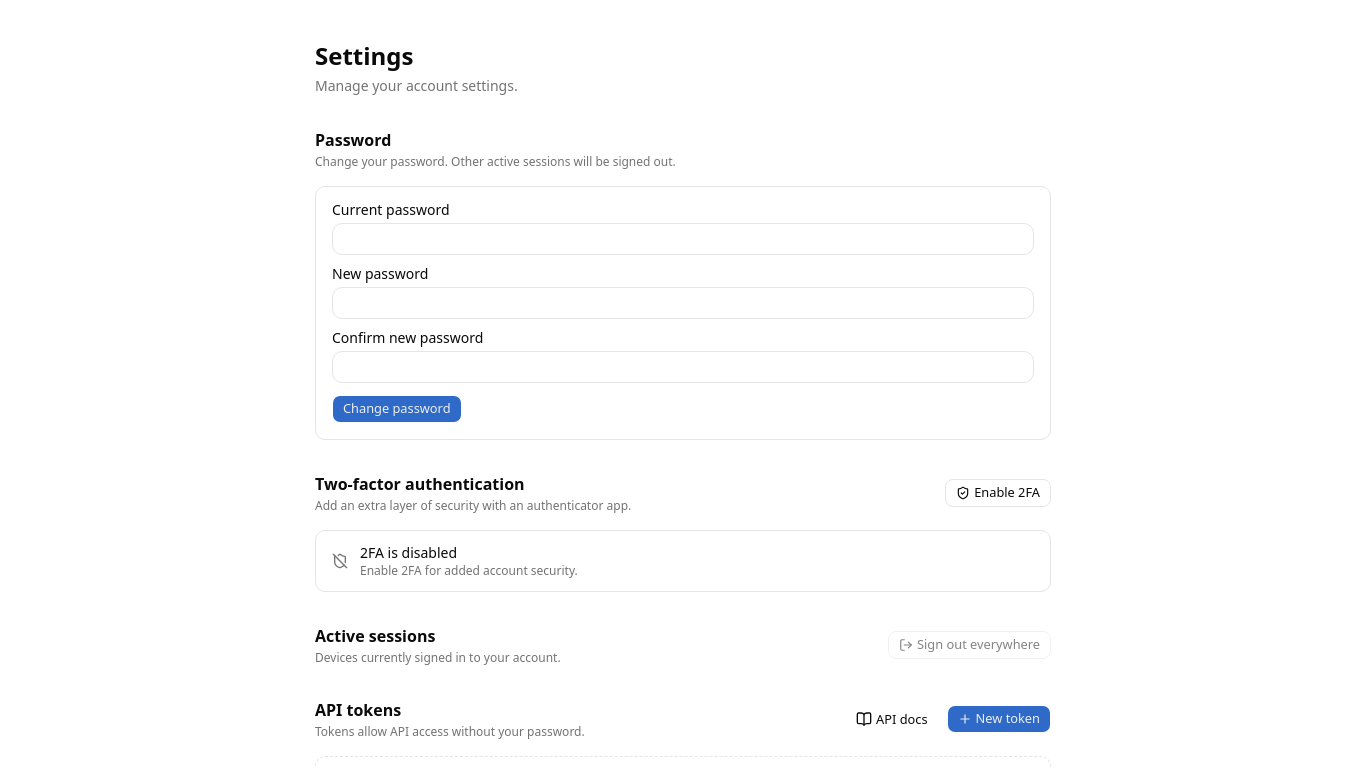
Scenario: shows a freshly created token once, for copying
Click the button "New token". click: coordinates (999, 719)
box: [947,705,1051,733]
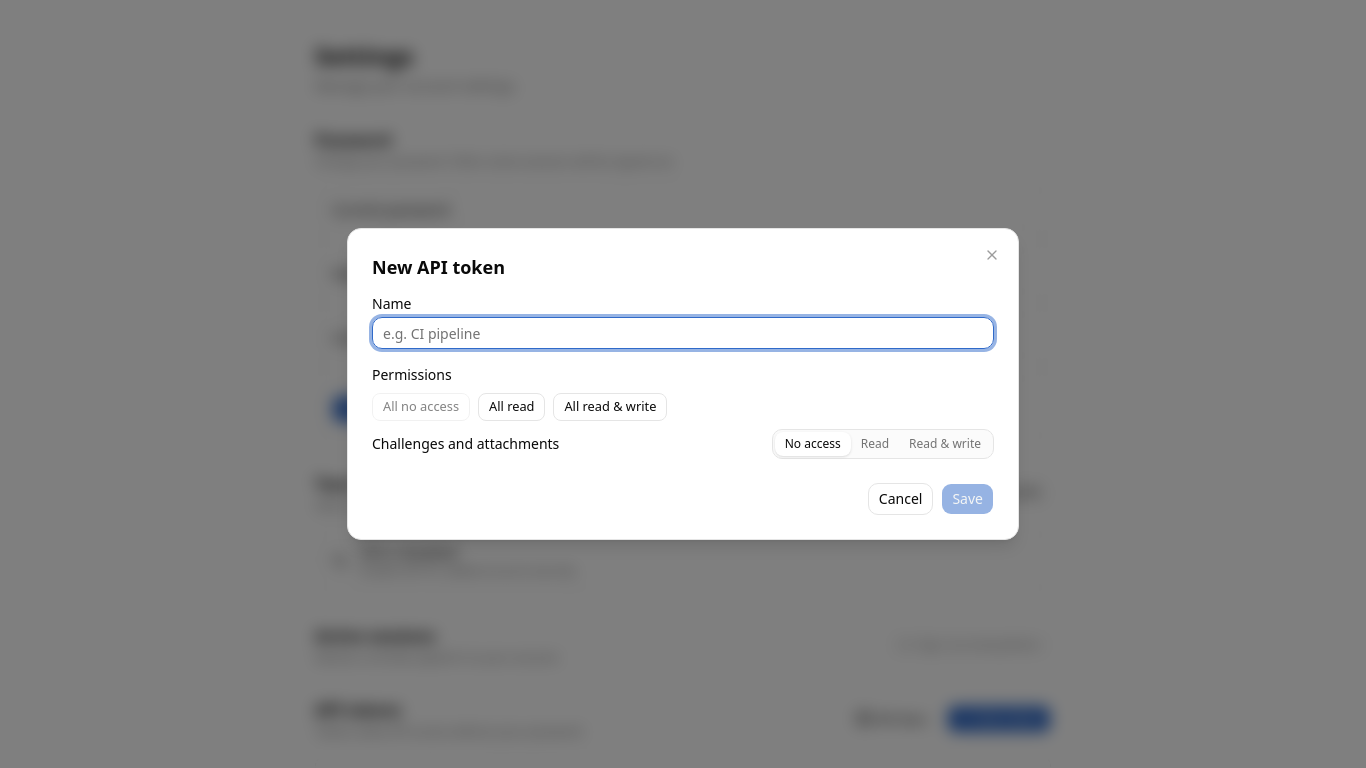
Type "CI" into the field labelled "Name". click: coordinates (683, 333)
box: [372,317,994,349]
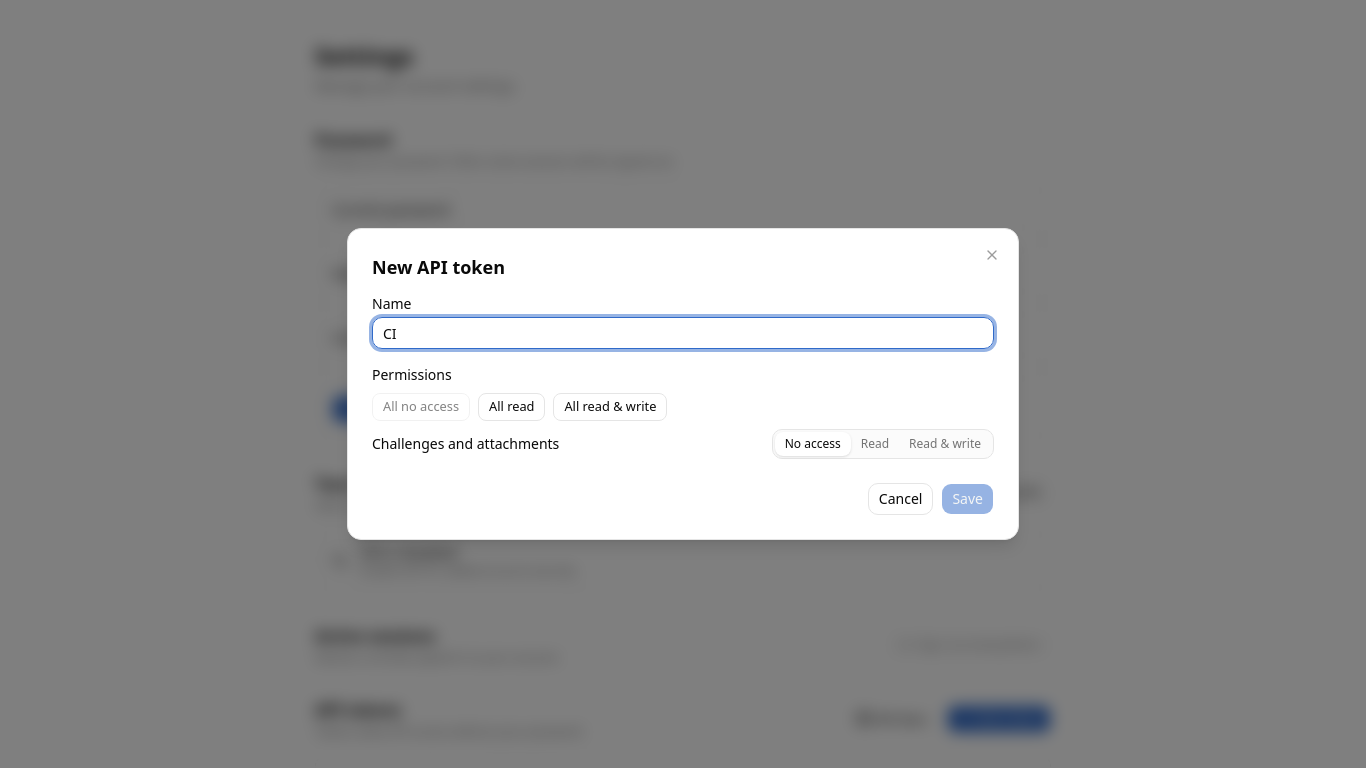
Click the radio button with aria-label "Challenges and attachments: Read". click: coordinates (875, 444)
box: [861,435,889,452]
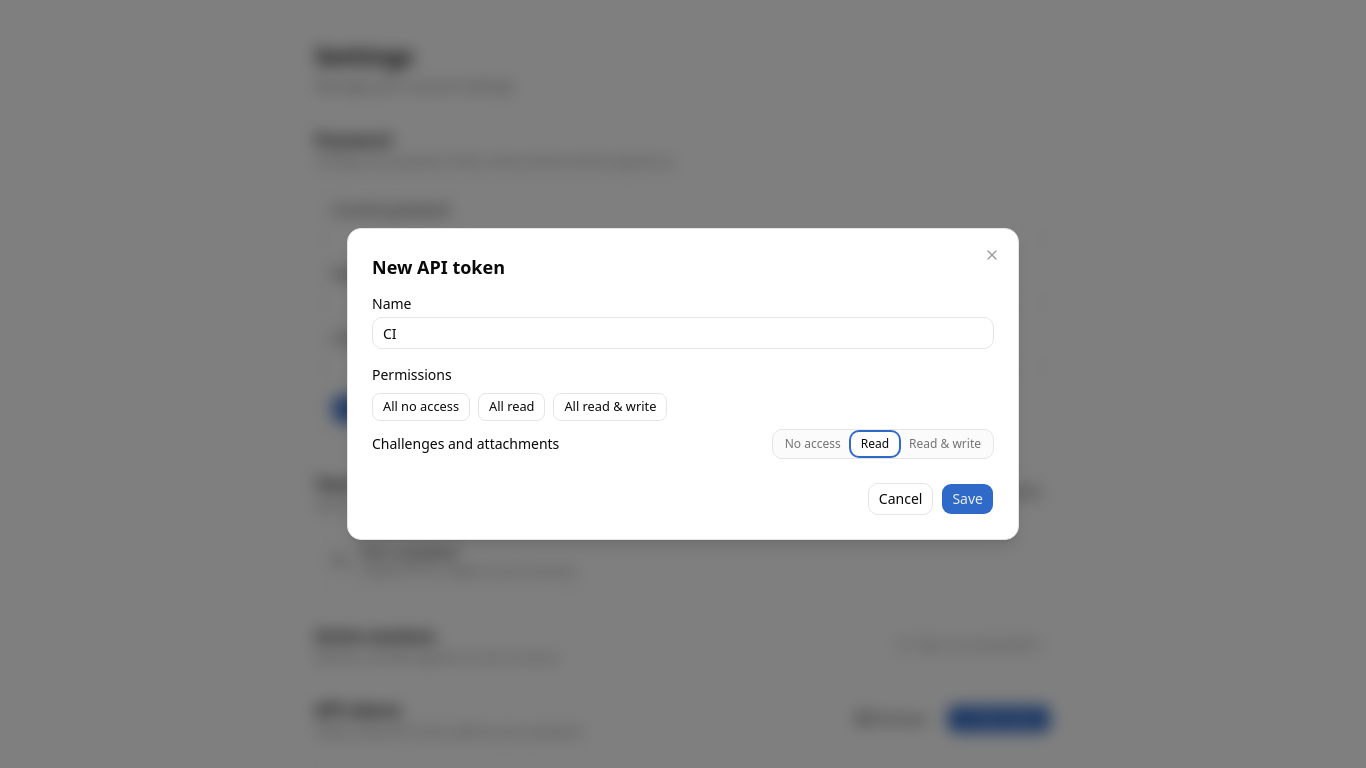
Click the button "Save". click: coordinates (968, 499)
box: [941,483,994,515]
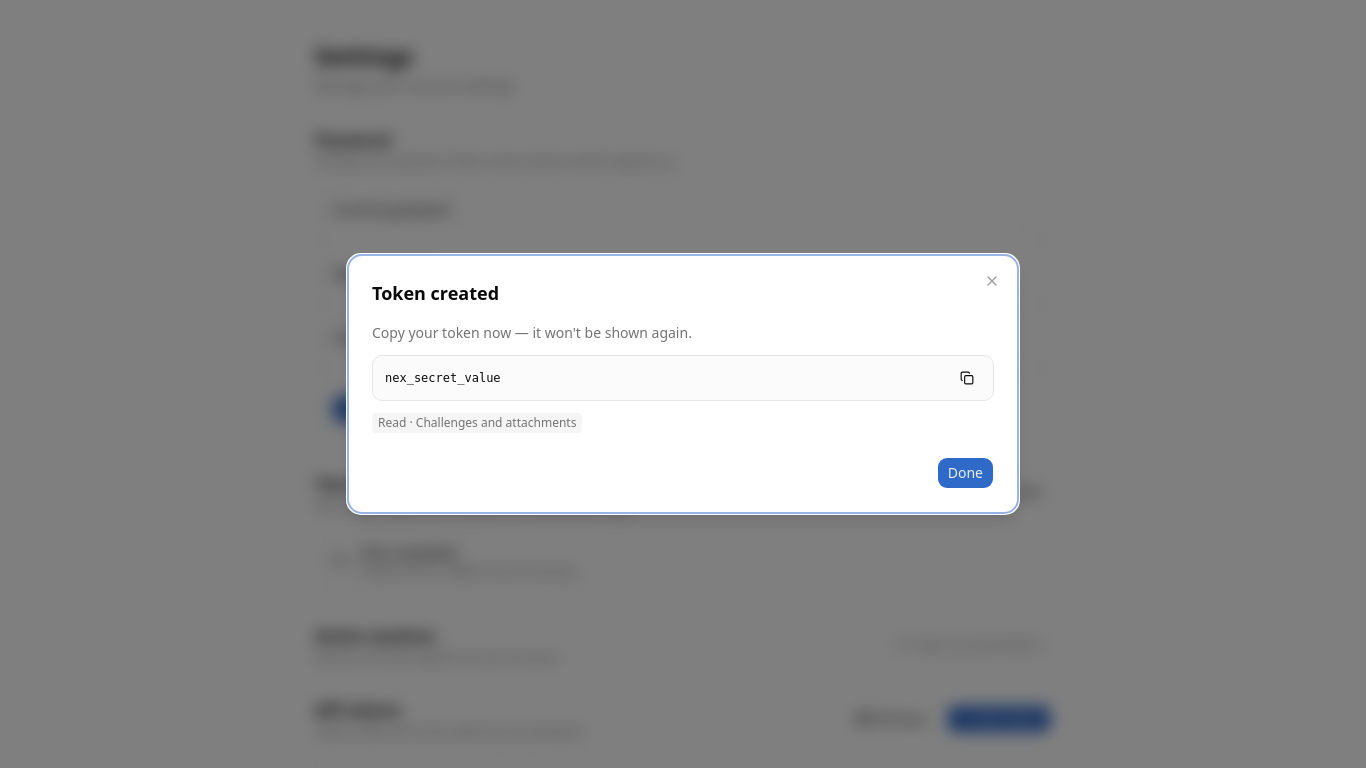
Result: the text "nex_secret_value" is shown at [385,371,501,385]
